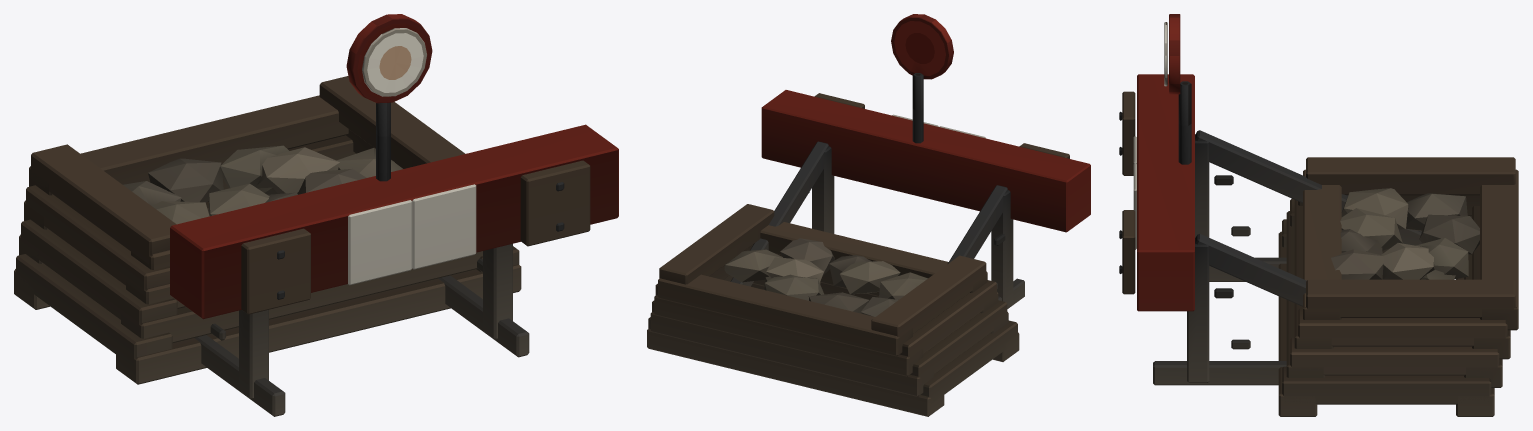
The model's file is tampon.glb.
The picture shows the model from 3 angles, left to right: view 1: azimuth 30°, elevation 25°; view 2: azimuth 150°, elevation 25°; view 3: azimuth 270°, elevation 25°; orthographic projection. The views are drawn at different scales.
Visible parts, largest first — view 1: wood-crib-001, wood-beam-002, stone-earth-001, dark-struts-001, dark-lamp-002; view 2: wood-crib-001, wood-beam-002, stone-earth-001, dark-struts-001, dark-lamp-002; view 3: wood-crib-001, wood-beam-002, dark-struts-001, stone-earth-001, dark-lamp-002.
Part boxes in pixels (x1,y1,x2,y2): wood-crib-001: [14, 76, 521, 384]; wood-beam-002: [170, 124, 618, 319]; stone-earth-001: [123, 145, 402, 224]; dark-struts-001: [194, 243, 529, 416]; dark-lamp-002: [346, 14, 432, 181]; wood-crib-001: [647, 204, 1019, 416]; wood-beam-002: [761, 90, 1090, 232]; stone-earth-001: [724, 238, 927, 316]; dark-struts-001: [730, 141, 1024, 308]; dark-lamp-002: [891, 14, 953, 143]; wood-crib-001: [1278, 157, 1518, 416]; wood-beam-002: [1119, 74, 1194, 311]; dark-struts-001: [1153, 130, 1422, 385]; stone-earth-001: [1331, 188, 1479, 279]; dark-lamp-002: [1164, 14, 1191, 164].
Bounding box in the file's own units: 2.6 × 2.18 × 2.48.
